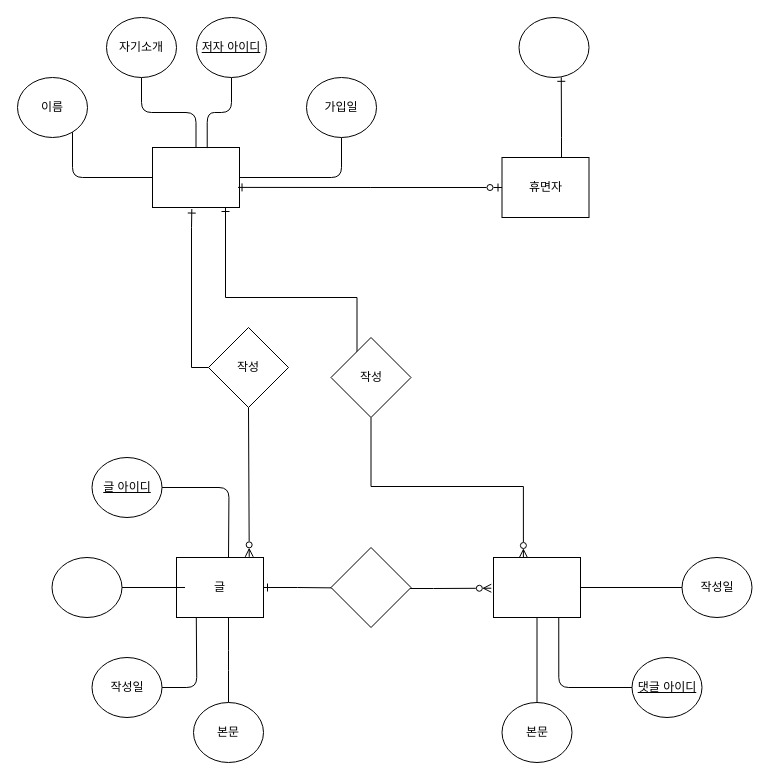
Some shapes in this 770 by 780 pixel diagram are drawn without their labels. Here are the shapes that lost their labels. From the top down, the centre of each, then its label:
At point 553,47: "휴면일".
At point 196,177: "저자".
At point 86,587: "제목".
At point 370,587: "소속".
At point 536,587: "댓글".
